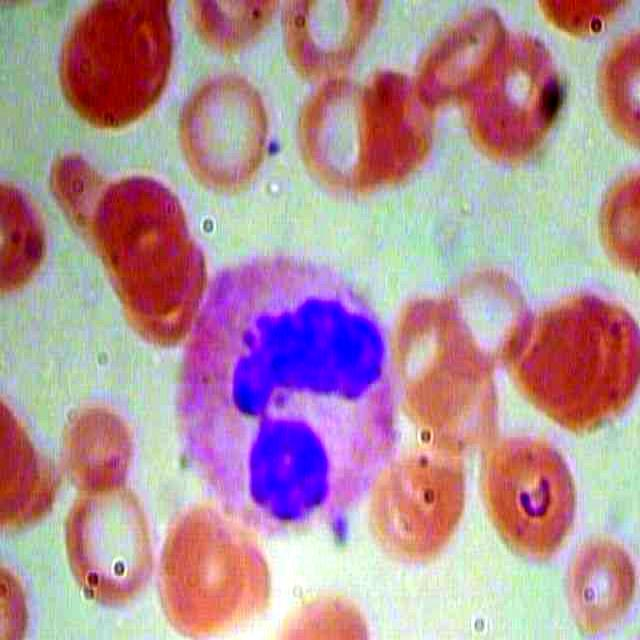RBC: (156, 506, 279, 640), (472, 420, 582, 564), (55, 1, 174, 132), (456, 28, 569, 155), (177, 64, 278, 196), (65, 474, 166, 606), (296, 67, 394, 197), (564, 526, 640, 640), (61, 393, 138, 484)
WBC: (161, 241, 399, 539)
